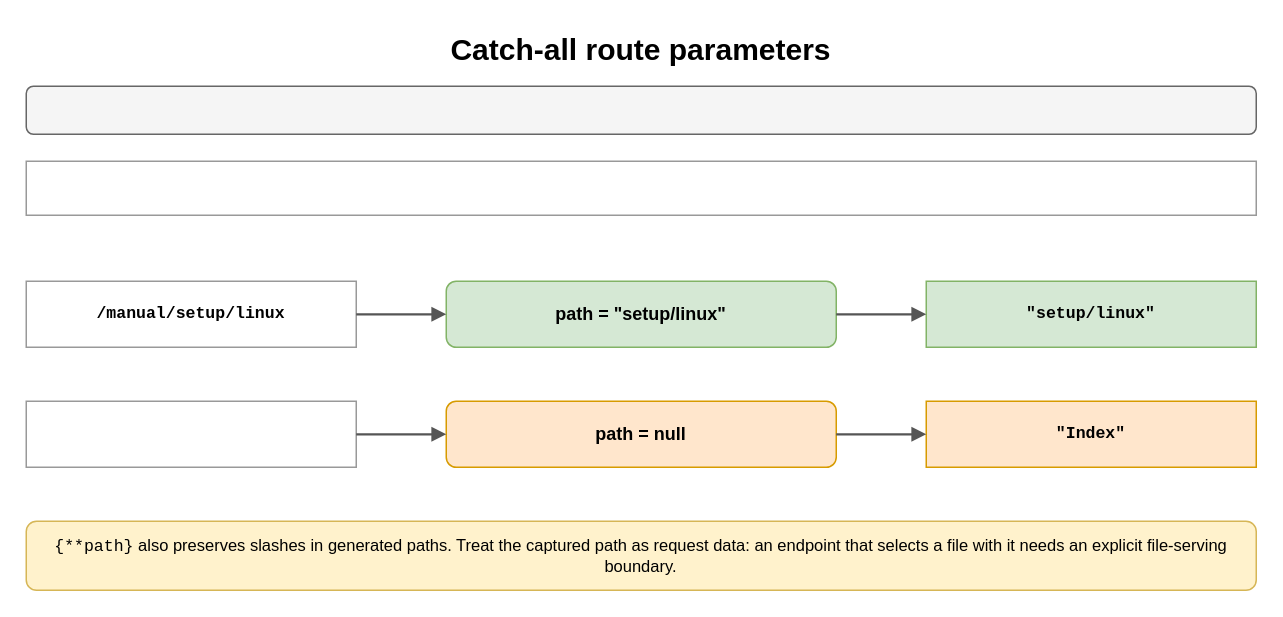
Image size: 1283x617. Some labels were removed from this diagram. The shapes that lost their labels are listed below. From the top down, each one's centre as x and y in pixels, then its label:
point 640,109: {**path} matches the remainder of the path and belongs at the end
point 640,187: app.MapGet("/manual/{**path}", (string? path) => path ?? "Index")
point 190,433: /manual
